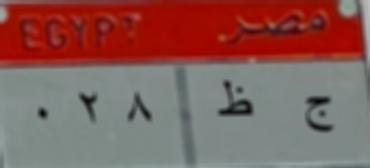0: (32, 100, 56, 128)
2: (74, 87, 106, 125)
8: (118, 84, 158, 132)
Thaa: (207, 75, 256, 120)
jeem: (296, 90, 340, 140)
